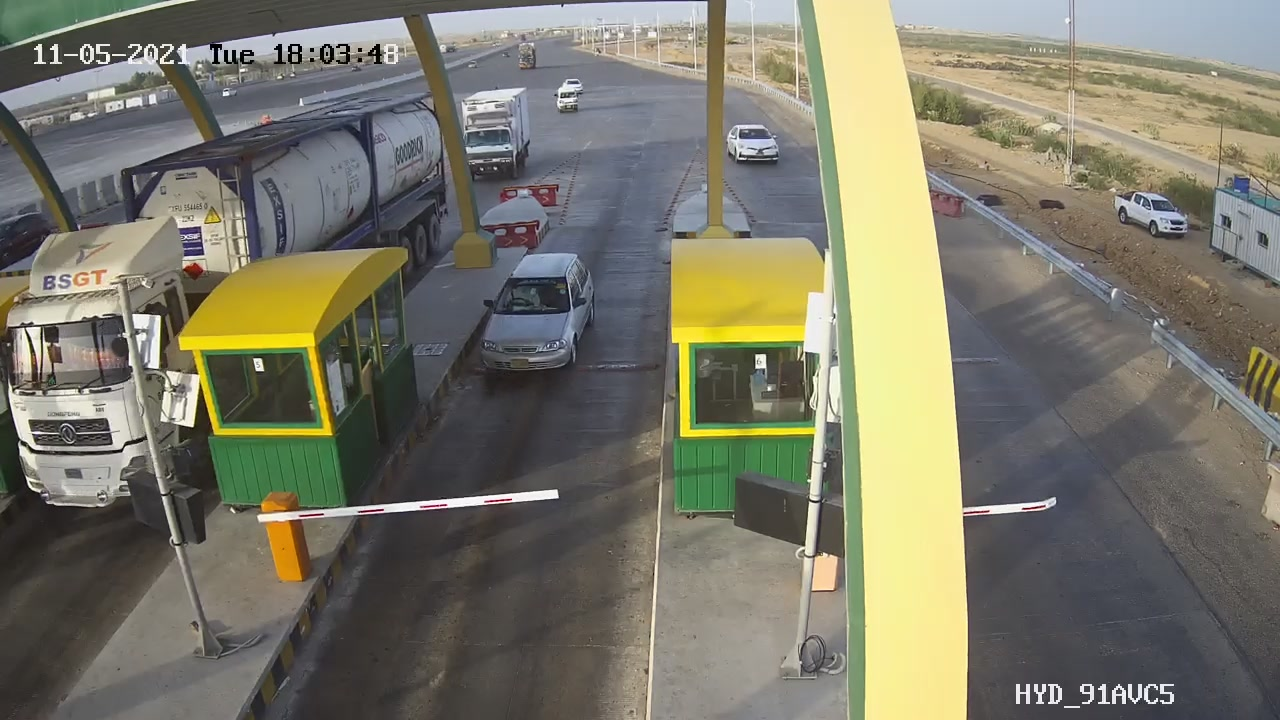F1: (457, 233, 620, 395)
